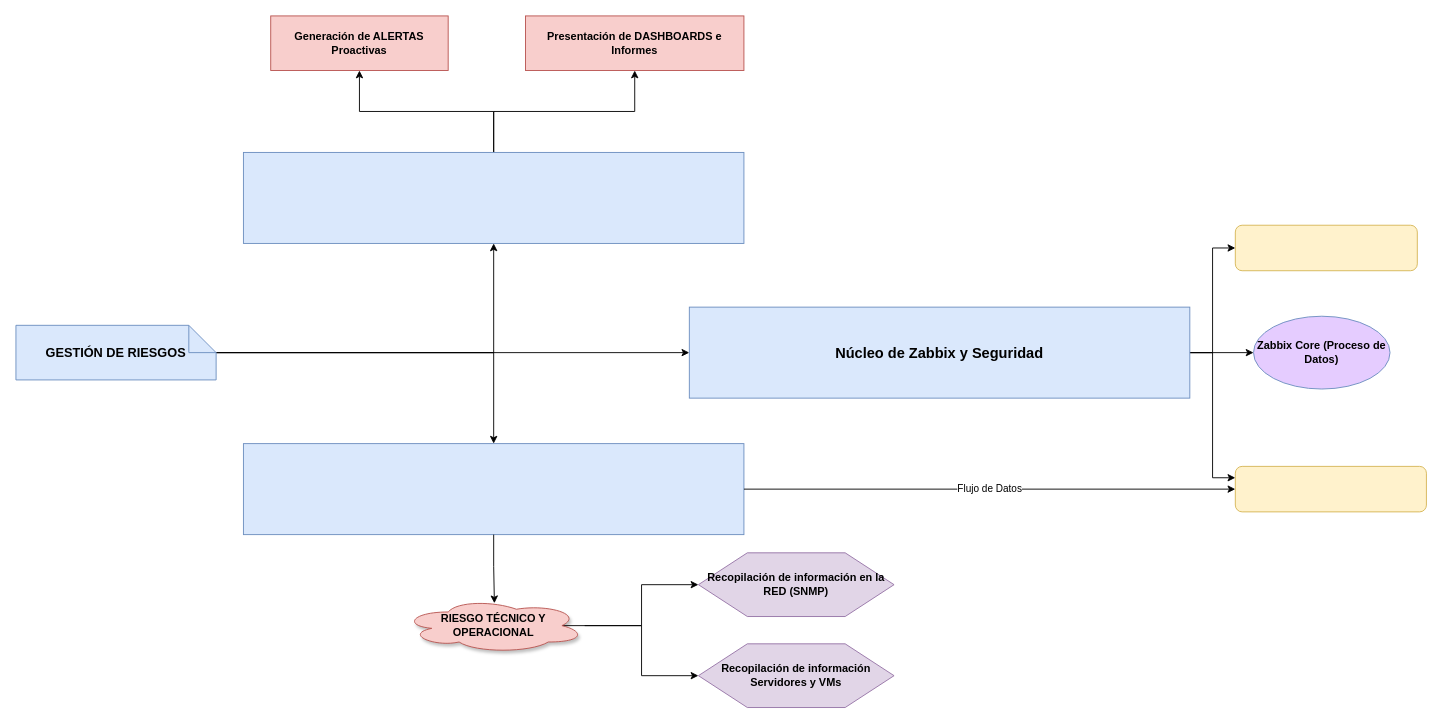
Some shapes in this 1442 by 723 pixel diagram are drawn without their labels. Here are the shapes that lost their labels. From the top down, the centre of each, then its label:
At point 493,197: "RESULTADOS EN LA DETECCIÓN DE RIESGOS".
At point 1325,247: "Cifrado de Comunicaciones (TLS/SSL)".
At point 493,489: "INFRAESTRUCTURA (Detección y Riesgo)".
At point 1330,488: "Control de Acceso (Principio de Menor Privilegio)".
